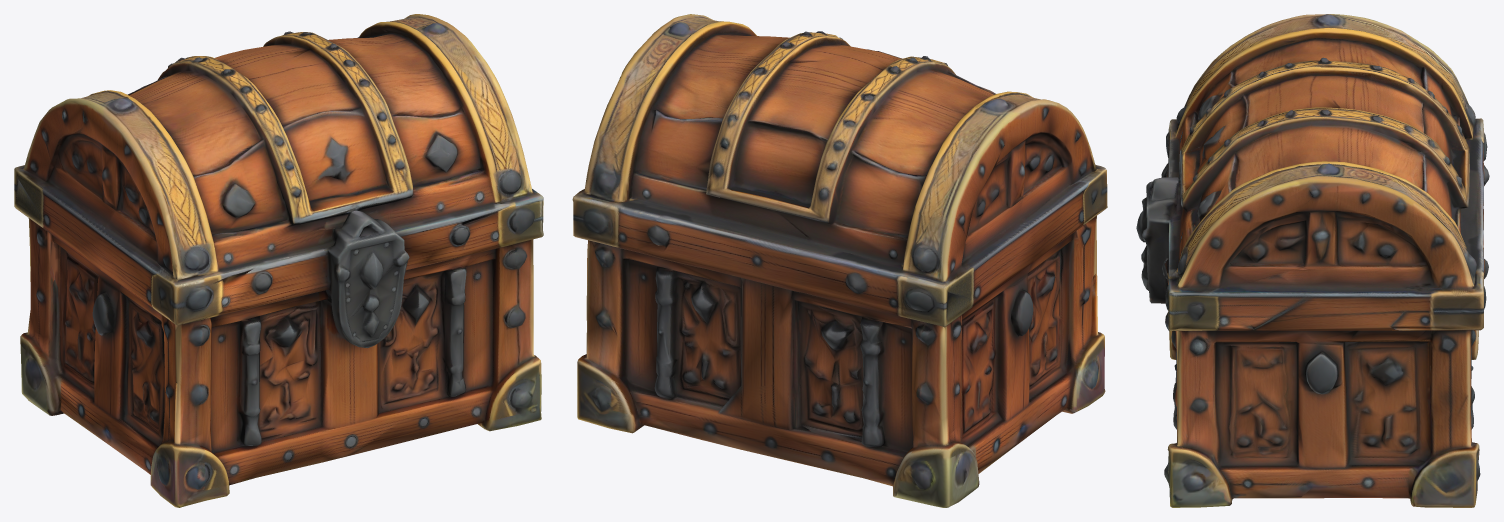
Rendered from treasure-chest.glb.
3 renders of one model, left to right at view 1: azimuth 30°, elevation 25°; view 2: azimuth 150°, elevation 25°; view 3: azimuth 270°, elevation 25°, orthographic. The views are drawn at different scales.
Size of the model in its own units: 2 by 1.81 by 1.71.
1 material, 1 textured.
